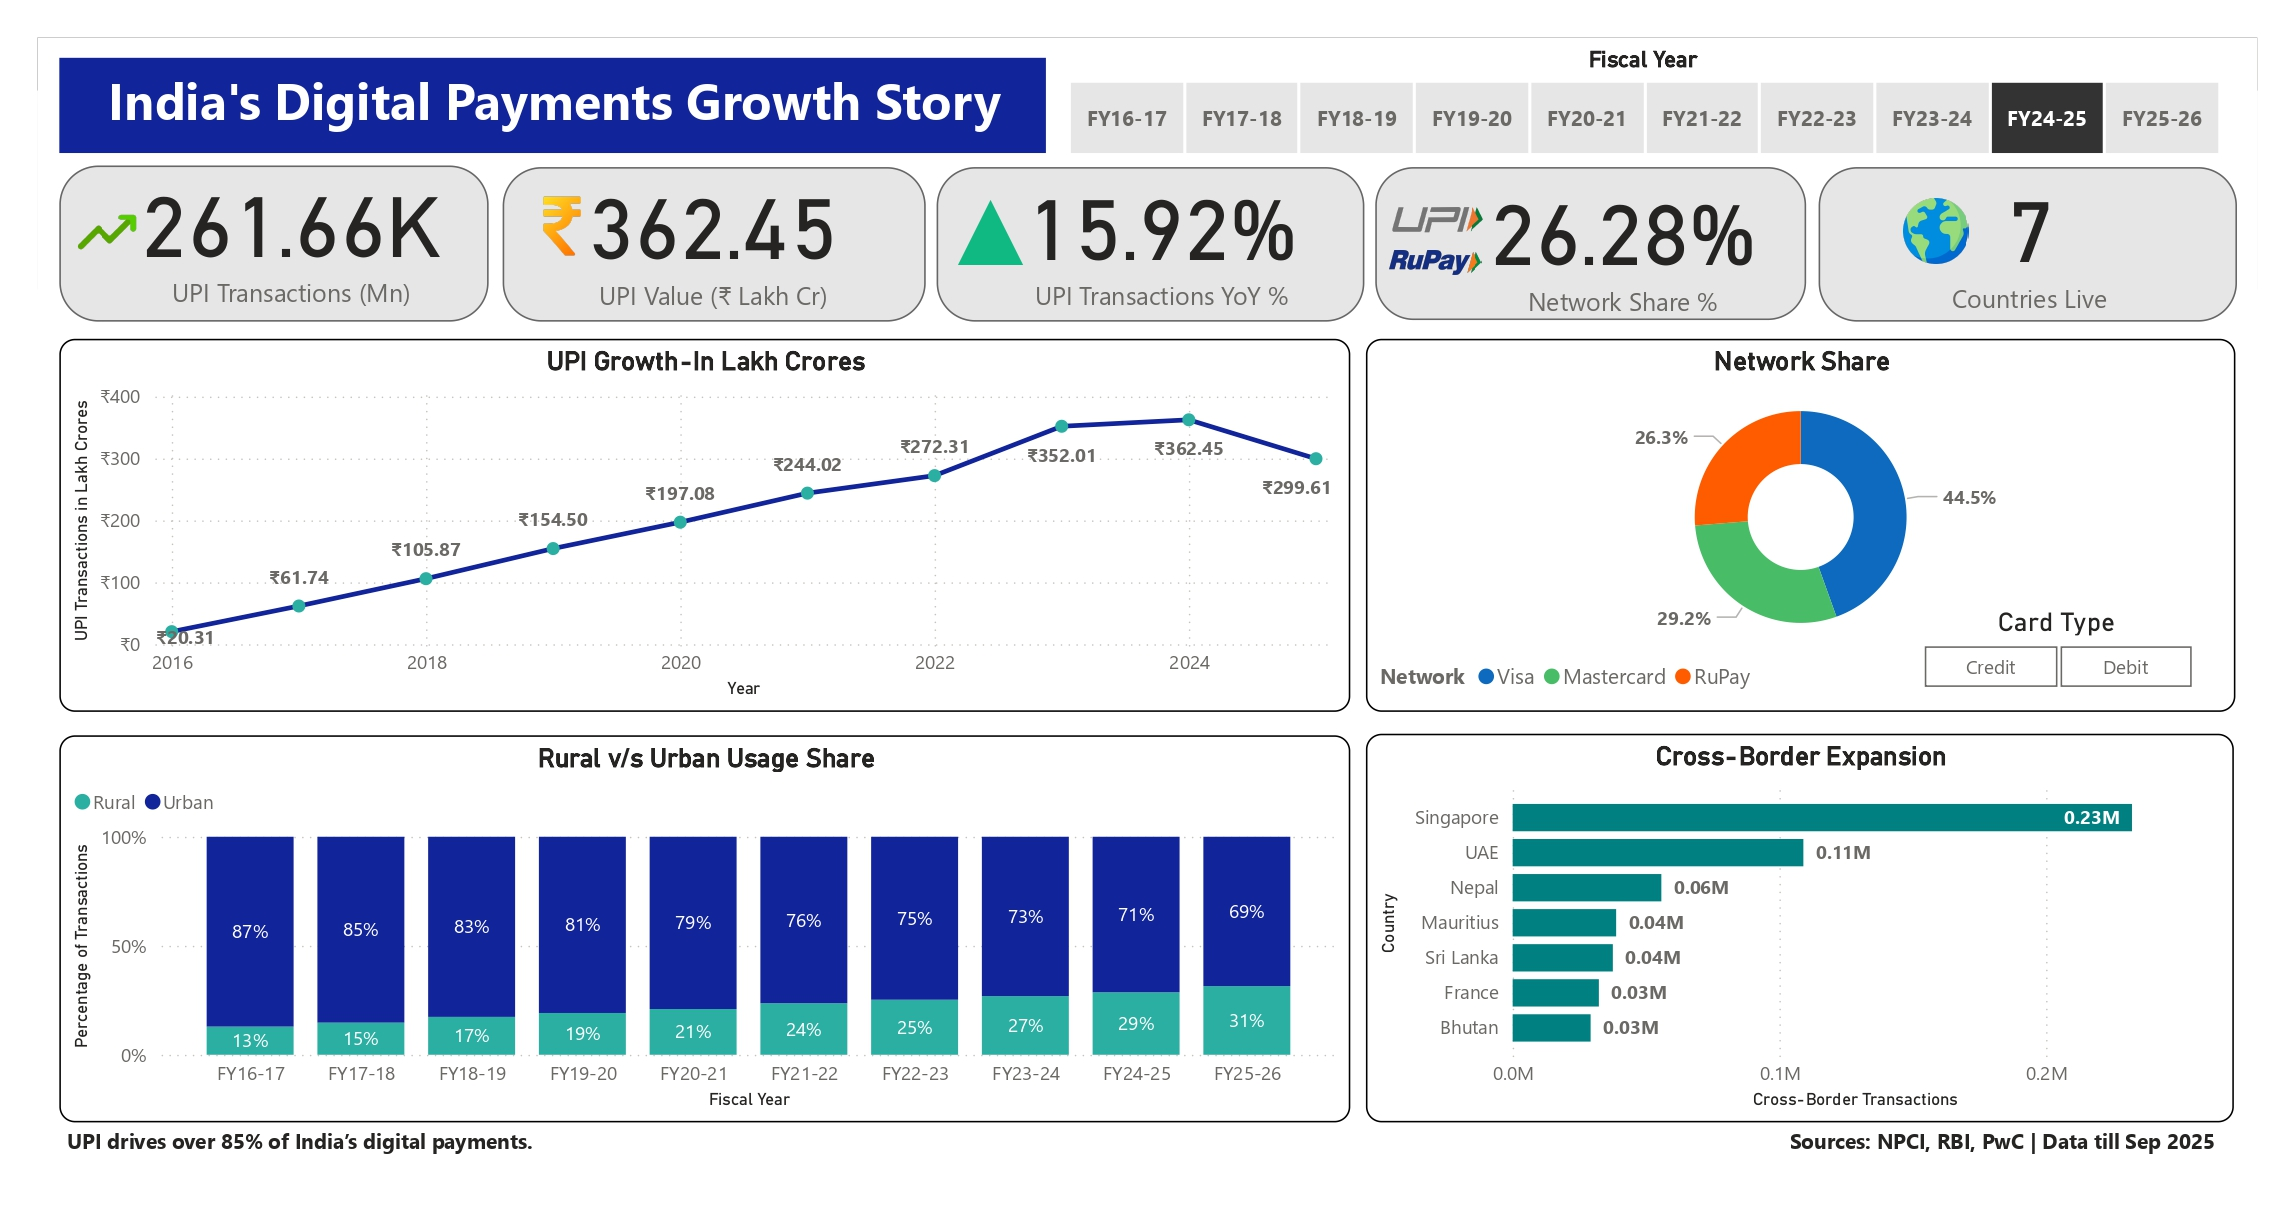

Layout of this report page (visuals, bound fields, positions):
{"tool":"powerbi","page":{"name":"Page 1","canvas":[1420,730],"ordinal":0},"visuals":[{"type":"shape","box":[1140,83.3,268.3,98.3],"z":0},{"type":"shape","box":[856,83,276,98],"z":1000},{"type":"shape","box":[575,83,274,99],"z":2000},{"type":"card","fields":{"Values":["CrossBorder_Summary.Countries Live (as of FY)"]},"box":[1166.1,76.7,218.3,103.3],"z":3000,"group":"g4"},{"type":"shape","box":[296.6,82.6,271.5,98.9],"z":3000},{"type":"card","fields":{"Values":["UPI_Monthly.UPI Txns (Mn)"]},"box":[33.4,72.2,255.7,105.7],"z":4000,"group":"g1"},{"type":"shape","box":[13,82,275,100],"z":4000},{"type":"donutChart","title":"Network Share","fields":{"Category":["Network_Monthly.Network"],"Y":["Network_Monthly.Network Share %"]},"box":[850,193.3,556.7,238.3],"z":5000},{"type":"card","fields":{"Values":["UPI_Monthly.UPI Value (₹ Lakh Cr)"]},"box":[299.9,72.4,264,108.7],"z":6000,"group":"g2"},{"type":"textbox","box":[13.3,693.3,1395,36.7],"z":6000},{"type":"lineChart","title":"UPI Growth-In Lakh Crores","fields":{"Category":["UPI_Annual.Year"],"Y":["Sum(UPI_Annual.UPI_Value_LakhCr)"]},"box":[12.9,192.6,827.4,239.6],"z":7000},{"type":"card","fields":{"Values":["UPI_Monthly.UPI Txns YoY %"]},"box":[594,73,250,108],"z":8000,"group":"g3"},{"type":"hundredPercentStackedColumnChart","title":"Rural v/s Urban Usage Share","fields":{"Category":["DimDate.Fiscal Year"],"Series":["RuralUrban_Monthly.Region"],"Y":["Sum(RuralUrban_Monthly.UPI_Transactions_Mn)"]},"box":[12.9,446.8,827.4,247.7],"z":8000},{"type":"barChart","title":"Cross-Border Expansion","fields":{"Y":["CrossBorder_Monthly.Cross-Border Txns (Mn)"],"Category":["CrossBorder_Monthly.Country"]},"box":[850,446.4,556.4,249.1],"z":9000},{"type":"slicer","title":"Fiscal Year","fields":{"Values":["DimDate.Fiscal Year"]},"box":[634,5.8,786,75.7],"z":10000},{"type":"card","fields":{"Values":["Network_Monthly.Network Share %"]},"box":[903.2,78.2,222.8,104.8],"z":11000,"group":"g5"},{"type":"slicer","title":"Card Type","fields":{"Values":["Network_Monthly.Card_Type"]},"box":[1181.9,363.9,221.2,56.8],"z":11000},{"type":"group","id":"g1","title":"Group 1","box":[15.7,72.2,273.4,105.7],"z":12000},{"type":"group","id":"g2","title":"Group 2","box":[299.9,72.4,263.5,109.2],"z":13000},{"type":"image","box":[1189.4,96.7,51.7,53.3],"z":13000,"group":"g4"},{"type":"group","id":"g3","title":"Group 3","box":[570.7,73,273.3,108],"z":14000},{"type":"image","box":[860.4,115.7,68.9,56.1],"z":14000,"group":"g5"},{"type":"group","id":"g4","title":"Group 5","box":[1166.1,76.7,218.3,103.3],"z":15000},{"type":"image","box":[307.3,92.6,55.7,57.5],"z":15000,"group":"g2"},{"type":"textbox","box":[13.1,13.1,631.7,61.1],"z":16000},{"type":"image","box":[842.7,93.6,105.5,45.5],"z":17000},{"type":"group","id":"g5","title":"Group 4","box":[860.4,78.2,265.6,104.8],"z":18000},{"type":"image","box":[15.7,88,55,71.7],"z":18000,"group":"g1"},{"type":"card","fields":{"Values":["UPI_Monthly.YoY Arrow"]},"box":[570.7,84.7,76.7,70],"z":19001,"group":"g3"}]}

Visuals, with their boxes in screenshot pixels (x1, y1, x2, y2), scaled from the page's 1420x730 canvas onto the 2295x1215 screenshot:
shape: rect(1842, 139, 2276, 302)
shape: rect(1383, 138, 1830, 301)
shape: rect(929, 138, 1372, 303)
card - CrossBorder_Summary.Countries Live (as of FY): rect(1885, 128, 2237, 300)
shape: rect(479, 137, 918, 302)
card - UPI_Monthly.UPI Txns (Mn): rect(54, 120, 467, 296)
shape: rect(21, 136, 465, 303)
"Network Share" donutChart: rect(1374, 322, 2274, 718)
card - UPI_Monthly.UPI Value (₹ Lakh Cr): rect(485, 121, 911, 301)
textbox: rect(21, 1154, 2276, 1214)
"UPI Growth-In Lakh Crores" lineChart: rect(21, 321, 1358, 719)
card - UPI_Monthly.UPI Txns YoY %: rect(960, 122, 1364, 301)
"Rural v/s Urban Usage Share" hundredPercentStackedColumnChart: rect(21, 744, 1358, 1156)
"Cross-Border Expansion" barChart: rect(1374, 743, 2273, 1158)
"Fiscal Year" slicer: rect(1025, 10, 2294, 136)
card - Network_Monthly.Network Share %: rect(1460, 130, 1820, 305)
"Card Type" slicer: rect(1910, 606, 2268, 700)
"Group 1" group: rect(25, 120, 467, 296)
"Group 2" group: rect(485, 121, 911, 302)
image: rect(1922, 161, 2006, 250)
"Group 3" group: rect(922, 122, 1364, 301)
image: rect(1391, 193, 1502, 286)
"Group 5" group: rect(1885, 128, 2237, 300)
image: rect(497, 154, 587, 250)
textbox: rect(21, 22, 1042, 123)
image: rect(1362, 156, 1532, 232)
"Group 4" group: rect(1391, 130, 1820, 305)
image: rect(25, 146, 114, 266)
card - UPI_Monthly.YoY Arrow: rect(922, 141, 1046, 257)
